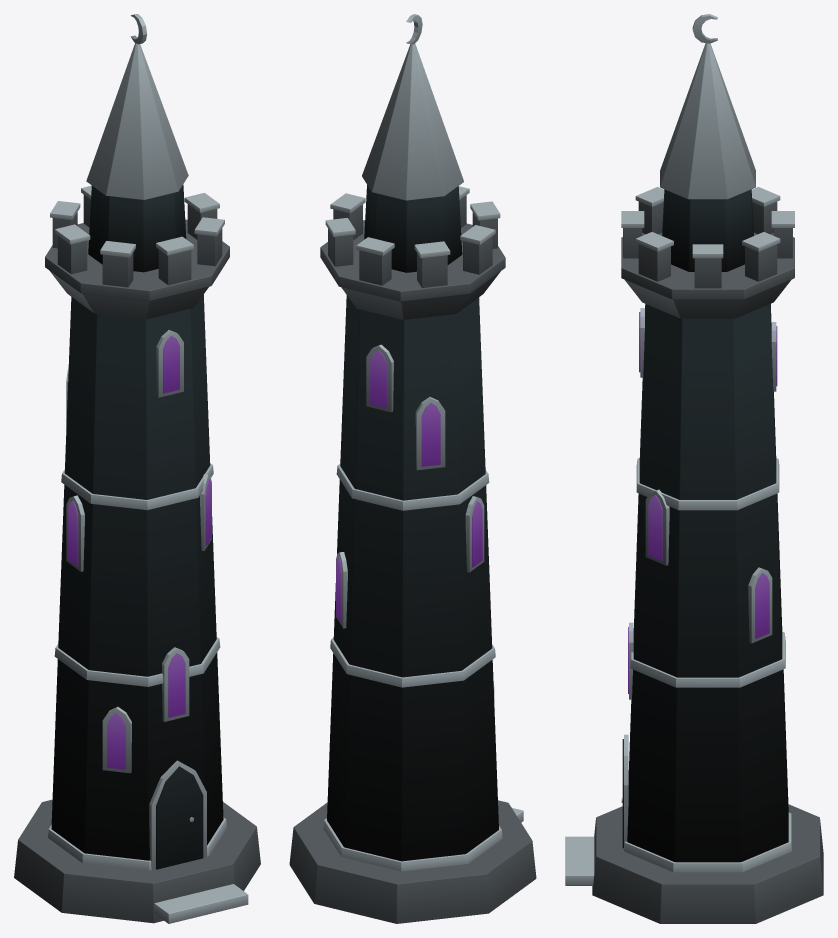
The model's file is obsidian_tower.glb.
The picture shows the model from 3 angles, left to right: view 1: azimuth 30°, elevation 25°; view 2: azimuth 150°, elevation 25°; view 3: azimuth 270°, elevation 25°; orthographic projection.
Parts seen in each view (by area): view 1: obsidian_tower; view 2: obsidian_tower; view 3: obsidian_tower.
Boxes of the visible parts, x1,y1,x2,y2 form: obsidian_tower: [14, 14, 260, 923]; obsidian_tower: [289, 14, 536, 923]; obsidian_tower: [565, 14, 823, 923].
Size of the model in its own units: 6 by 24.6 by 6.7.
4 materials, 4 textured.
